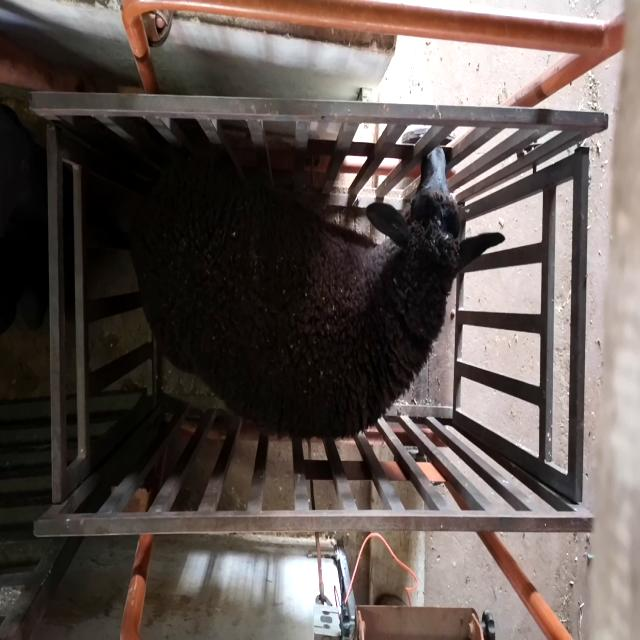sheep: (128, 146, 506, 438)
